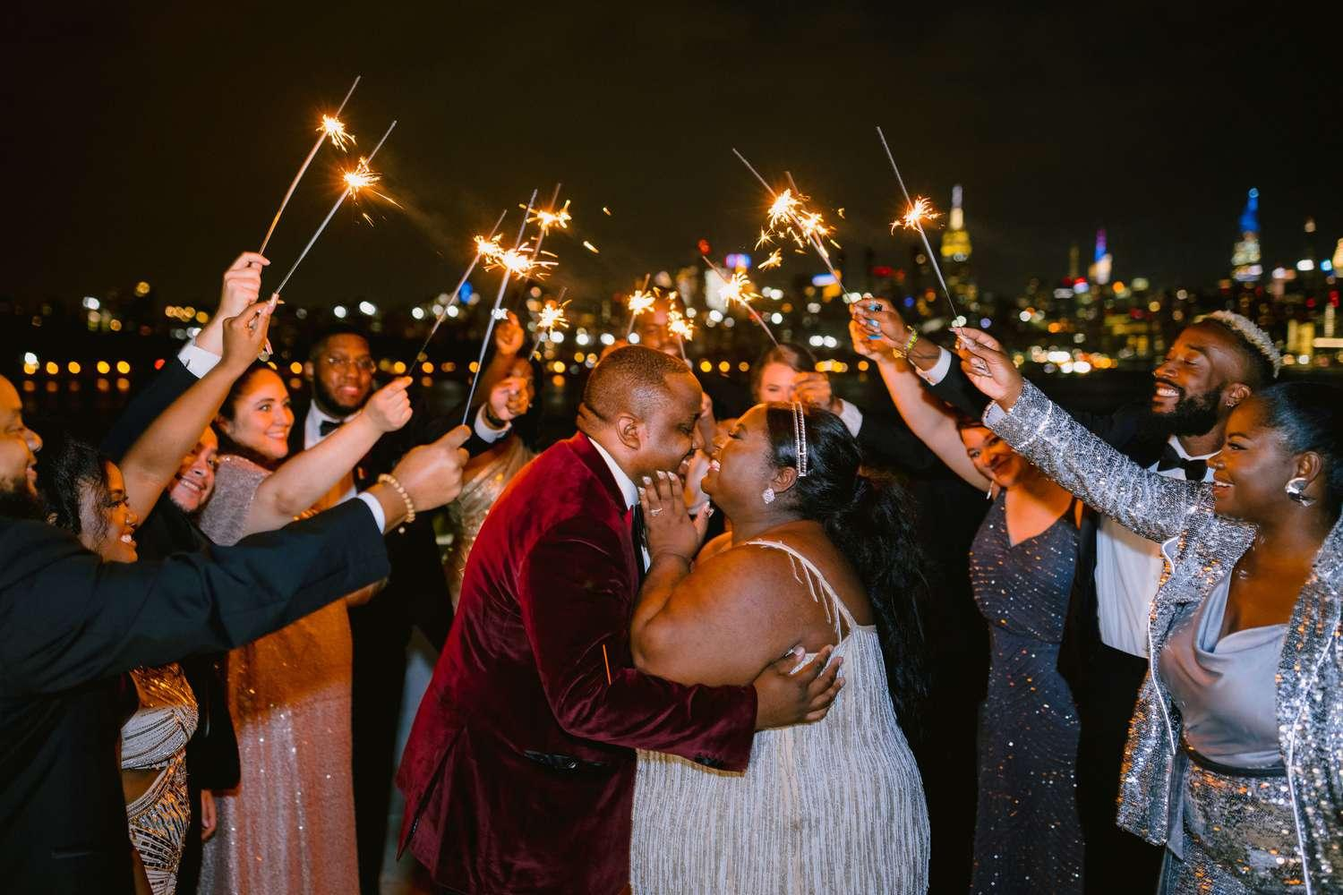controlled_fire: (260, 99, 1029, 391)
